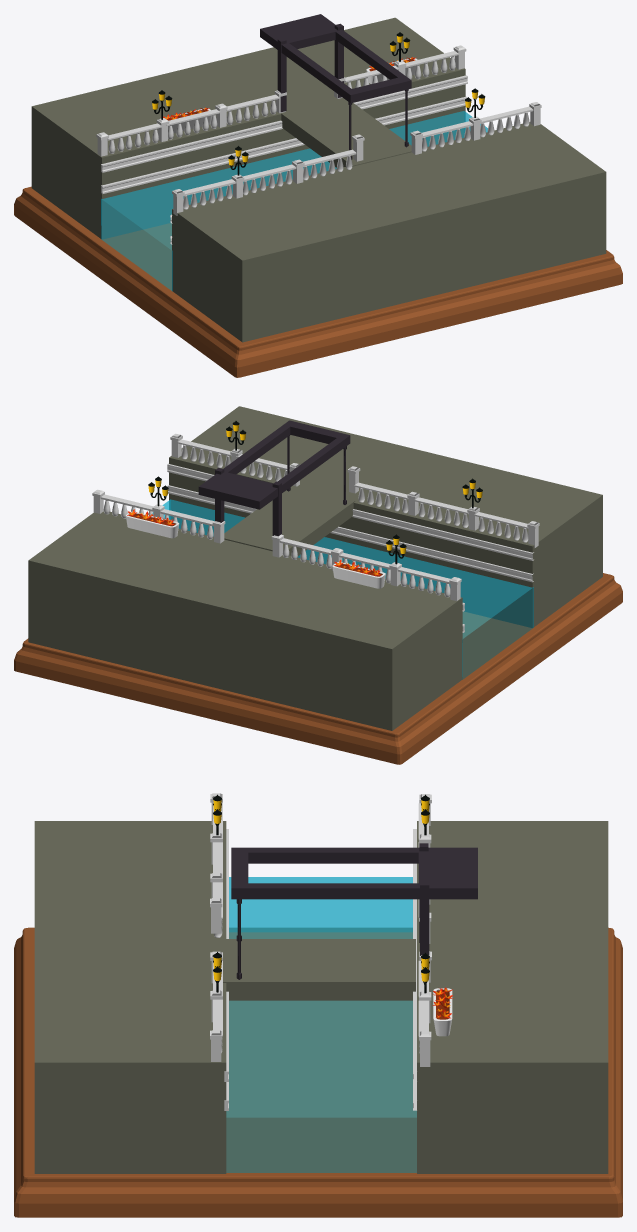
Rendered from Level52.FBX.
3 views of the same model, one above another, from view 1: azimuth 30°, elevation 25°; view 2: azimuth 150°, elevation 25°; view 3: azimuth 270°, elevation 25° (orthographic). The views are drawn at different scales.
Parts seen in each view (by area): view 1: Object156, Box154, Box153; view 2: Object156, Box153, Box154; view 3: Object156, Box154, Box153.
Part boxes in pixels (left/top/right/bottom): Object156: left=14, top=17, right=622, bottom=377; Box154: left=281, top=98, right=411, bottom=167; Box153: left=260, top=14, right=411, bottom=103; Object156: left=14, top=406, right=622, bottom=764; Box153: left=198, top=420, right=350, bottom=509; Box154: left=224, top=485, right=355, bottom=555; Object156: left=14, top=793, right=622, bottom=1217; Box154: left=222, top=939, right=415, bottom=1000; Box153: left=231, top=847, right=477, bottom=899.
Size of the model in its own units: 336 by 149 by 336.
